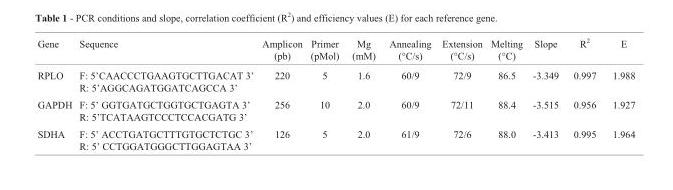table: (36, 37, 634, 151)
table column: (75, 37, 257, 151), (381, 37, 435, 151), (435, 37, 485, 151), (257, 37, 305, 151), (485, 37, 527, 151), (36, 37, 75, 151), (305, 37, 344, 151), (527, 37, 565, 151), (565, 37, 603, 151), (344, 37, 381, 151), (603, 37, 634, 151)
table column header: (36, 37, 634, 66)
table row: (36, 66, 634, 96), (36, 37, 634, 66), (36, 96, 634, 125), (36, 125, 634, 151)
